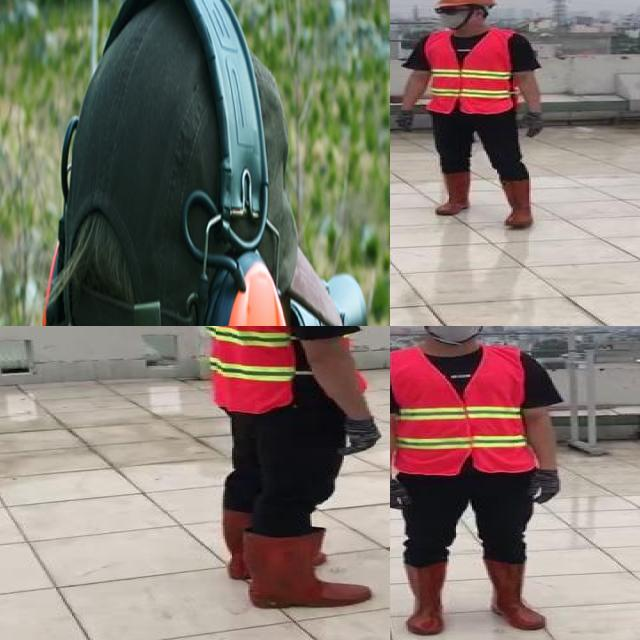Ear-protection: (37, 0, 307, 326)
boots: (243, 528, 376, 608), (207, 501, 339, 580), (478, 559, 548, 631), (398, 560, 448, 636), (499, 177, 536, 229), (433, 173, 472, 217)
face_mask: (429, 0, 474, 31), (420, 326, 489, 341)
glasses: (425, 2, 462, 18)
hand_glove: (338, 418, 386, 457), (529, 469, 566, 506), (390, 479, 414, 513), (522, 112, 545, 138), (394, 109, 415, 131)
head_helmet: (436, 0, 498, 12)
person: (185, 326, 386, 616), (390, 326, 567, 639), (390, 0, 555, 237)
vest: (390, 344, 536, 476), (196, 326, 365, 413), (428, 29, 514, 116)
